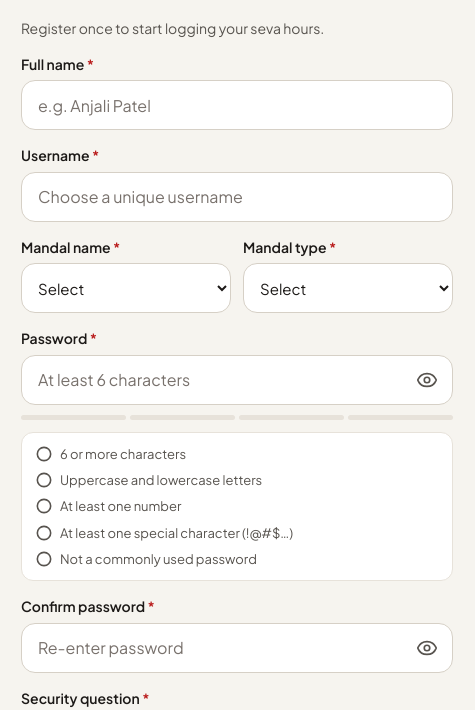
it: Register form validation › reports mismatched passwords
This screenshot has width=475, height=710.
Type "Seva-Kitchen-42!" into the password field labelled "Password *" at [237, 380], box [21, 355, 453, 405]
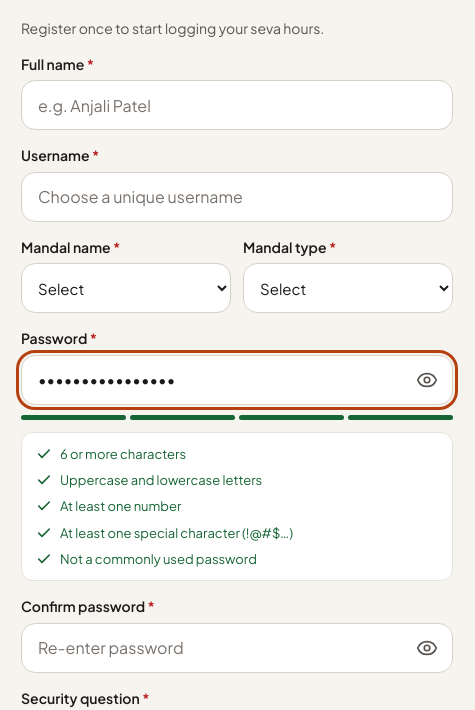
Type "Seva-Kitchen-43!" into the password field labelled "Confirm password *" at [237, 648], box [21, 622, 453, 672]
(page scrolled)
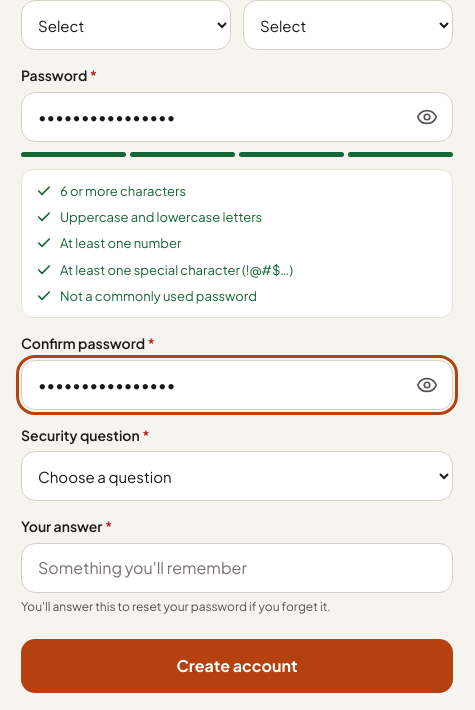
Click the button "Create account" at [237, 666], box [21, 640, 453, 694]
(page scrolled)
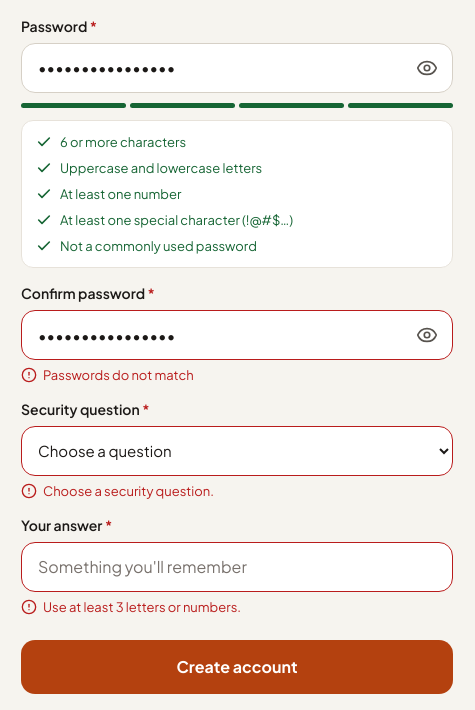
Expected: the text "Passwords do not match" is shown, [21, 367, 194, 383]
